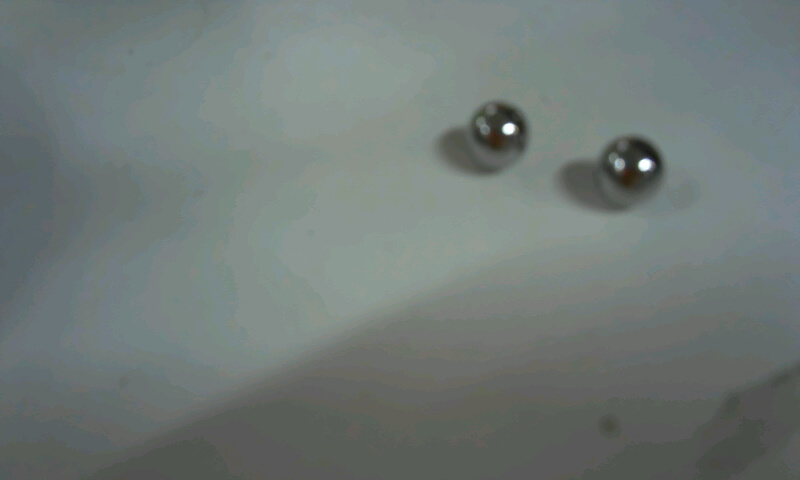steelball: (452, 83, 548, 180), (589, 123, 677, 223)
